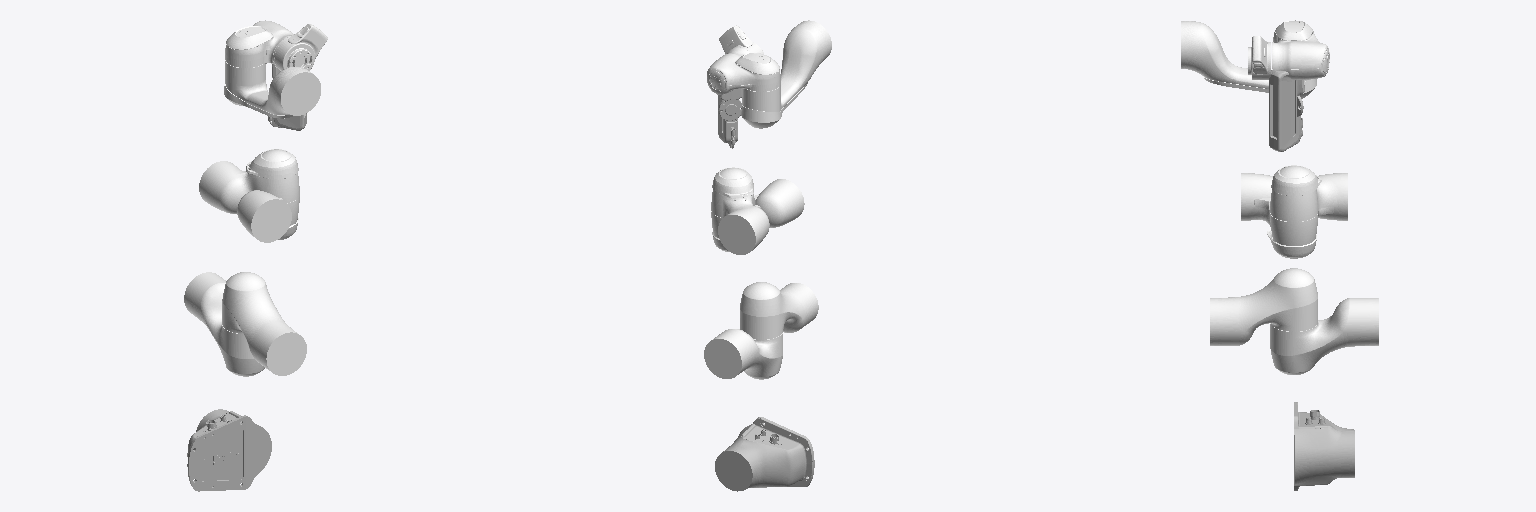
robot.urdf — panda:
<?xml version="1.0" ?>

<robot name="panda" xmlns:xacro="http://www.ros.org/wiki/xacro">
  
  <link name="panda_link0">
    <visual>
      <geometry>
        <mesh filename="package://panda/meshes/visual/link0.stl"/>
      </geometry>
      <material name="panda_gray"/>
    </visual>
    <collision>
      <geometry>
        <mesh filename="package://panda/meshes/collision/link0.stl"/>
      </geometry>
      <material name="panda_gray"/>
    </collision>
    <inertial>
      <origin xyz="0 0 0" rpy="0 0 0"/>
      <mass value="3.06"/>
      <inertia ixx="0.3" ixy="0.0" ixz="0.0" iyy="0.3" iyz="0.0" izz="0.3"/>
    </inertial>
  </link>
  
  <link name="panda_link1">
    <visual>
      <geometry>
        <mesh filename="package://panda/meshes/visual/link1.stl"/>
      </geometry>
      <material name="panda_white"/>
    </visual>
    <collision>
      <geometry>
        <mesh filename="package://panda/meshes/collision/link1.stl"/>
      </geometry>
      <material name="panda_white"/>
    </collision>
    <inertial>
      <origin xyz="0 0 0" rpy="0 0 0"/>
      <mass value="2.34"/>
      <inertia ixx="0.3" ixy="0.0" ixz="0.0" iyy="0.3" iyz="0.0" izz="0.3"/>
    </inertial>
  </link>
  
  <joint name="panda_joint1" type="revolute">
    <safety_controller k_position="100.0" k_velocity="40.0" soft_lower_limit="-2.8973" soft_upper_limit="2.8973"/>
    <origin rpy="0 0 0" xyz="0 0 0.333"/>
    <parent link="panda_link0"/>
    <child link="panda_link1"/>
    <axis xyz="0 0 1"/>
    <limit effort="87" lower="-2.9671" upper="2.9671" velocity="2.1750"/>
    <dynamics damping="0.5"/>
  </joint>
  
  <link name="panda_link2">
    <visual>
      <geometry>
        <mesh filename="package://panda/meshes/visual/link2.stl"/>
      </geometry>
      <material name="panda_white"/>
    </visual>
    <collision>
      <geometry>
        <mesh filename="package://panda/meshes/collision/link2.stl"/>
      </geometry>
      <material name="panda_white"/>
    </collision>
    <inertial>
      <origin xyz="0 0 0" rpy="0 0 0"/>
      <mass value="2.36"/>
      <inertia ixx="0.3" ixy="0.0" ixz="0.0" iyy="0.3" iyz="0.0" izz="0.3"/>
    </inertial>
  </link>
  
  <joint name="panda_joint2" type="revolute">
    <safety_controller k_position="100.0" k_velocity="40.0" soft_lower_limit="-1.7628" soft_upper_limit="1.7628"/>
    <origin rpy="-1.57079632679 0 0" xyz="0 0 0"/>
    <parent link="panda_link1"/>
    <child link="panda_link2"/>
    <axis xyz="0 0 1"/>
    <limit effort="87" lower="-1.8326" upper="1.8326" velocity="2.1750"/>
    <dynamics damping="0.5"/>
  </joint>
  
  <link name="panda_link3">
    <visual>
      <geometry>
        <mesh filename="package://panda/meshes/visual/link3.stl"/>
      </geometry>
      <material name="panda_white"/>
    </visual>
    <collision>
      <geometry>
        <mesh filename="package://panda/meshes/collision/link3.stl"/>
      </geometry>
      <material name="panda_white"/>
    </collision>
    <inertial>
      <origin xyz="0 0 0" rpy="0 0 0"/>
      <mass value="2.38"/>
      <inertia ixx="0.3" ixy="0.0" ixz="0.0" iyy="0.3" iyz="0.0" izz="0.3"/>
    </inertial>
  </link>
  
  <joint name="panda_joint3" type="revolute">
    <safety_controller k_position="100.0" k_velocity="40.0" soft_lower_limit="-2.8973" soft_upper_limit="2.8973"/>
    <origin rpy="1.57079632679 0 0" xyz="0 -0.316 0"/>
    <parent link="panda_link2"/>
    <child link="panda_link3"/>
    <axis xyz="0 0 1"/>
    <limit effort="87" lower="-2.9671" upper="2.9671" velocity="2.1750"/>
    <dynamics damping="0.5"/>
  </joint>
  
  <link name="panda_link4">
    <visual>
      <geometry>
        <mesh filename="package://panda/meshes/visual/link4.stl"/>
      </geometry>
      <material name="panda_white"/>
    </visual>
    <collision>
      <geometry>
        <mesh filename="package://panda/meshes/collision/link4.stl"/>
      </geometry>
      <material name="panda_white"/>
    </collision>
    <inertial>
      <origin xyz="0 0 0" rpy="0 0 0"/>
      <mass value="2.43"/>
      <inertia ixx="0.3" ixy="0.0" ixz="0.0" iyy="0.3" iyz="0.0" izz="0.3"/>
    </inertial>
  </link>
  
  <joint name="panda_joint4" type="revolute">
    <safety_controller k_position="100.0" k_velocity="40.0" soft_lower_limit="-3.0718" soft_upper_limit="-0.0698"/>
    <origin rpy="1.57079632679 0 0" xyz="0.0825 0 0"/>
    <parent link="panda_link3"/>
    <child link="panda_link4"/>
    <axis xyz="0 0 1"/>
    <limit effort="87" lower="-3.1416" upper="0.0" velocity="2.1750"/>
    <dynamics damping="0.5"/>
  </joint>
  
  <link name="panda_link5">
    <visual>
      <geometry>
        <mesh filename="package://panda/meshes/visual/link5.stl"/>
      </geometry>
      <material name="panda_white"/>
    </visual>
    <collision>
      <geometry>
        <mesh filename="package://panda/meshes/collision/link5.stl"/>
      </geometry>
      <material name="panda_white"/>
    </collision>
    <inertial>
      <origin xyz="0 0 0" rpy="0 0 0"/>
      <mass value="3.5"/>
      <inertia ixx="0.3" ixy="0.0" ixz="0.0" iyy="0.3" iyz="0.0" izz="0.3"/>
    </inertial>
  </link>
  
  <joint name="panda_joint5" type="revolute">
    <safety_controller k_position="100.0" k_velocity="40.0" soft_lower_limit="-2.8973" soft_upper_limit="2.8973"/>
    <origin rpy="-1.57079632679 0 0" xyz="-0.0825 0.384 0"/>
    <parent link="panda_link4"/>
    <child link="panda_link5"/>
    <axis xyz="0 0 1"/>
    <limit effort="12" lower="-2.9671" upper="2.9671" velocity="2.6100"/>
    <dynamics damping="0.5"/>
  </joint>
  
  <link name="panda_link6">
    <visual>
      <geometry>
        <mesh filename="package://panda/meshes/visual/link6.stl"/>
      </geometry>
      <material name="panda_white"/>
    </visual>
    <collision>
      <geometry>
        <mesh filename="package://panda/meshes/collision/link6.stl"/>
      </geometry>
      <material name="panda_white"/>
    </collision>
    <inertial>
      <origin xyz="0 0 0" rpy="0 0 0"/>
      <mass value="1.47"/>
      <inertia ixx="0.3" ixy="0.0" ixz="0.0" iyy="0.3" iyz="0.0" izz="0.3"/>
    </inertial>
  </link>
  
  <joint name="panda_joint6" type="revolute">
    <safety_controller k_position="100.0" k_velocity="40.0" soft_lower_limit="-0.0175" soft_upper_limit="3.7525"/>
    <origin rpy="1.57079632679 0 0" xyz="0 0 0"/>
    <parent link="panda_link5"/>
    <child link="panda_link6"/>
    <axis xyz="0 0 1"/>
    <limit effort="12" lower="-0.0873" upper="3.8223" velocity="2.6100"/>
    <dynamics damping="0.5"/>
  </joint>
  
  <link name="panda_link7">
    <visual>
      <geometry>
        <mesh filename="package://panda/meshes/visual/link7.stl"/>
      </geometry>
      <material name="panda_white"/>
    </visual>
    <collision>
      <geometry>
        <mesh filename="package://panda/meshes/collision/link7.stl"/>
      </geometry>
      <material name="panda_white"/>
    </collision>
    <inertial>
      <origin xyz="0 0 0" rpy="0 0 0"/>
      <mass value="0.45"/>
      <inertia ixx="0.3" ixy="0.0" ixz="0.0" iyy="0.3" iyz="0.0" izz="0.3"/>
    </inertial>
  </link>
  
  <joint name="panda_joint7" type="revolute">
    <safety_controller k_position="100.0" k_velocity="40.0" soft_lower_limit="-2.8973" soft_upper_limit="2.8973"/>
    <origin rpy="1.57079632679 0 0" xyz="0.088 0 0"/>
    <parent link="panda_link6"/>
    <child link="panda_link7"/>
    <axis xyz="0 0 1"/>
    <limit effort="12" lower="-2.9671" upper="2.9671" velocity="2.6100"/>
    <dynamics damping="0.5"/>
  </joint>
  
  <link name="panda_link8">
    <inertial>
      <origin xyz="0 0 0" rpy="0 0 0"/>
      <mass value="0.0"/>
      <inertia ixx="0.0" ixy="0.0" ixz="0.0" iyy="0.0" iyz="0.0" izz="0.0"/>
    </inertial>
  </link>
  
  <joint name="panda_joint8" type="fixed">
    <origin rpy="0 0 0" xyz="0 0 0.107"/>
    <parent link="panda_link7"/>
    <child link="panda_link8"/>
    <axis xyz="0 0 0"/>
  </joint>
  
  <joint name="panda_hand_joint" type="fixed">
    <parent link="panda_link8"/>
    <child link="panda_hand"/>
    <origin rpy="0 0 -0.785398163397" xyz="0 0 0"/>
  </joint>
  
  <link name="panda_hand">
    <visual>
      <geometry>
        <mesh filename="package://panda/meshes/visual/hand.stl"/>
      </geometry>
      <material name="panda_gray"/>
    </visual>
    <collision>
      <geometry>
        <mesh filename="package://panda/meshes/collision/hand.stl"/>
      </geometry>
      <material name="panda_gray"/>
    </collision>
    <inertial>
      <origin xyz="0 0 0" rpy="0 0 0"/>
      <mass value="0.68"/>
      <inertia ixx="0.1" ixy="0.0" ixz="0.0" iyy="0.1" iyz="0.0" izz="0.1"/>
    </inertial>
  </link>
  
  <link name="panda_leftfinger">
    <visual>
      <geometry>
        <mesh filename="package://panda/meshes/visual/finger.stl"/>
      </geometry>
      <material name="panda_gray"/>
    </visual>
    <collision>
      <geometry>
        <mesh filename="package://panda/meshes/collision/finger.stl"/>
      </geometry>
      <material name="panda_gray"/>
    </collision>
    <inertial>
      <origin xyz="0 0 0" rpy="0 0 0"/>
      <mass value="0.01"/>
      <inertia ixx="0.1" ixy="0.0" ixz="0.0" iyy="0.1" iyz="0.0" izz="0.1"/>
    </inertial>
  </link>
  
  <link name="panda_rightfinger">
    <visual>
      <origin rpy="0 0 3.14159265359" xyz="0 0 0"/>
      <geometry>
        <mesh filename="package://panda/meshes/visual/finger.stl"/>
      </geometry>
      <material name="panda_gray"/>
    </visual>
    <collision>
      <origin rpy="0 0 3.14159265359" xyz="0 0 0"/>
      <geometry>
        <mesh filename="package://panda/meshes/collision/finger.stl"/>
      </geometry>
      <material name="panda_gray"/>
    </collision>
    <inertial>
      <origin xyz="0 0 0" rpy="0 0 0"/>
      <mass value="0.01"/>
      <inertia ixx="0.1" ixy="0.0" ixz="0.0" iyy="0.1" iyz="0.0" izz="0.1"/>
    </inertial>
  </link>
  
  <joint name="panda_finger_joint1" type="prismatic">
    <parent link="panda_hand"/>
    <child link="panda_leftfinger"/>
    <origin rpy="0 0 0" xyz="0 0 0.0584"/>
    <axis xyz="0 1 0"/>
    <limit effort="20" lower="0.0" upper="0.04" velocity="0.2"/>
  </joint>
  
  <joint name="panda_finger_joint2" type="prismatic">
    <parent link="panda_hand"/>
    <child link="panda_rightfinger"/>
    <origin rpy="0 0 0" xyz="0 0 0.0584"/>
    <axis xyz="0 -1 0"/>
    <limit effort="20" lower="0.0" upper="0.04" velocity="0.2"/>
    <mimic joint="panda_finger_joint1"/>
  </joint>
  
  
  <material name="panda_white">
    <color rgba="1. 1. 1. 1."/>
  </material>
  <material name="panda_gray">
    <color rgba=".8 .8 .8 1."/>
  </material>
</robot>

--- Render facts (derived) ---
The picture shows the robot from 3 angles, left to right: view 1: azimuth 30°, elevation 25°; view 2: azimuth 150°, elevation 25°; view 3: azimuth 270°, elevation 25°; orthographic projection.
Model panda with 12 links and 11 joints (7 revolute, 2 prismatic, 2 fixed), rooted at panda_link0, posed every joint at zero.
Links seen in each view (by area): view 1: panda_link0, panda_link1, panda_link4, panda_link5, panda_link2, panda_link3, panda_link6, panda_link7; view 2: panda_link0, panda_link5, panda_link1, panda_link4, panda_link2, panda_link6, panda_link3, panda_hand, panda_link7; view 3: panda_link1, panda_link2, panda_link0, panda_link4, panda_link5, panda_link3, panda_link6, panda_hand, panda_link7.
Link boxes in pixels (x1,y1,x2,y2): panda_link0: [187, 409, 271, 491]; panda_link1: [222, 272, 306, 375]; panda_link4: [199, 149, 299, 213]; panda_link5: [224, 60, 320, 118]; panda_link2: [184, 272, 264, 376]; panda_link3: [237, 190, 299, 242]; panda_link6: [225, 20, 293, 67]; panda_link7: [273, 24, 327, 70]; panda_link0: [715, 417, 814, 491]; panda_link5: [741, 20, 831, 128]; panda_link1: [740, 282, 818, 339]; panda_link4: [711, 167, 769, 254]; panda_link2: [704, 329, 782, 379]; panda_link6: [707, 47, 780, 94]; panda_link3: [711, 179, 804, 251]; panda_hand: [718, 89, 741, 148]; panda_link7: [719, 25, 763, 53]; panda_link1: [1210, 268, 1317, 345]; panda_link2: [1270, 298, 1378, 374]; panda_link0: [1294, 402, 1354, 490]; panda_link4: [1270, 165, 1347, 221]; panda_link5: [1181, 21, 1316, 98]; panda_link3: [1241, 173, 1317, 258]; panda_link6: [1272, 20, 1329, 79]; panda_hand: [1269, 70, 1304, 151]; panda_link7: [1248, 36, 1270, 79].
Size in the robot's own frame: 0.3234 by 0.453 by 1.21 metres.
Meshes: 10 distinct files referenced, 9 mesh visuals loaded (9 binary STL); not drawn: 2 (reference not matched to a file when rendering).